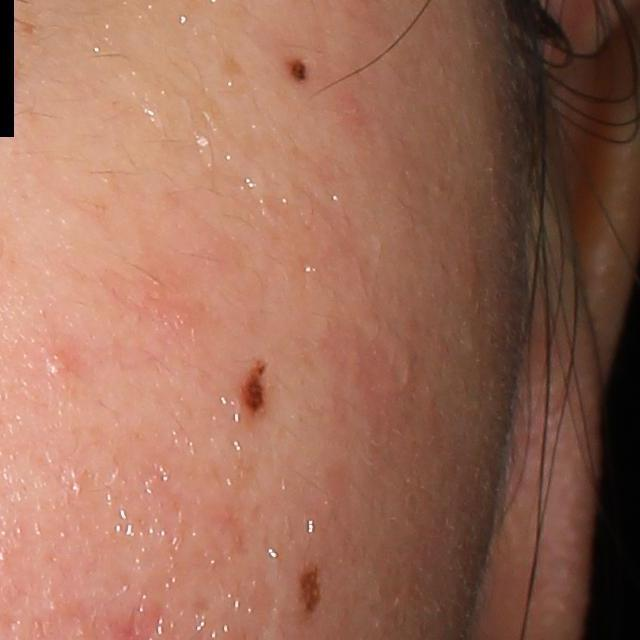nevus: (237, 356, 273, 419), (297, 562, 329, 616), (286, 57, 309, 85)
